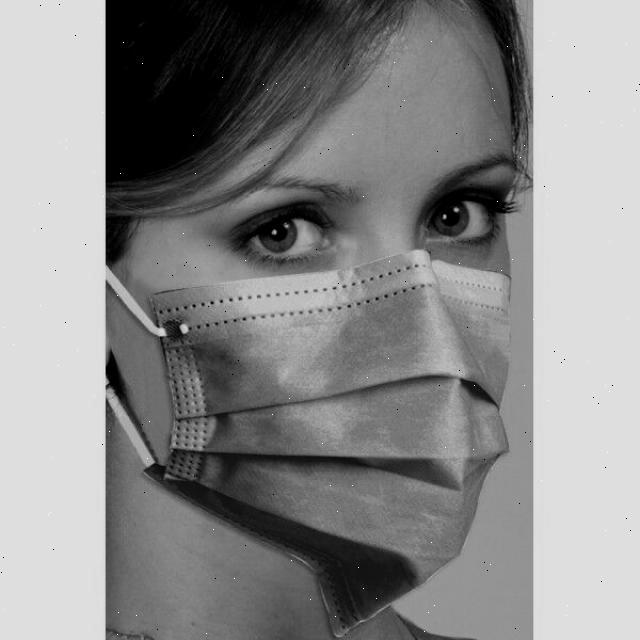fake: (144, 248, 518, 632)
real: (142, 0, 523, 581)
